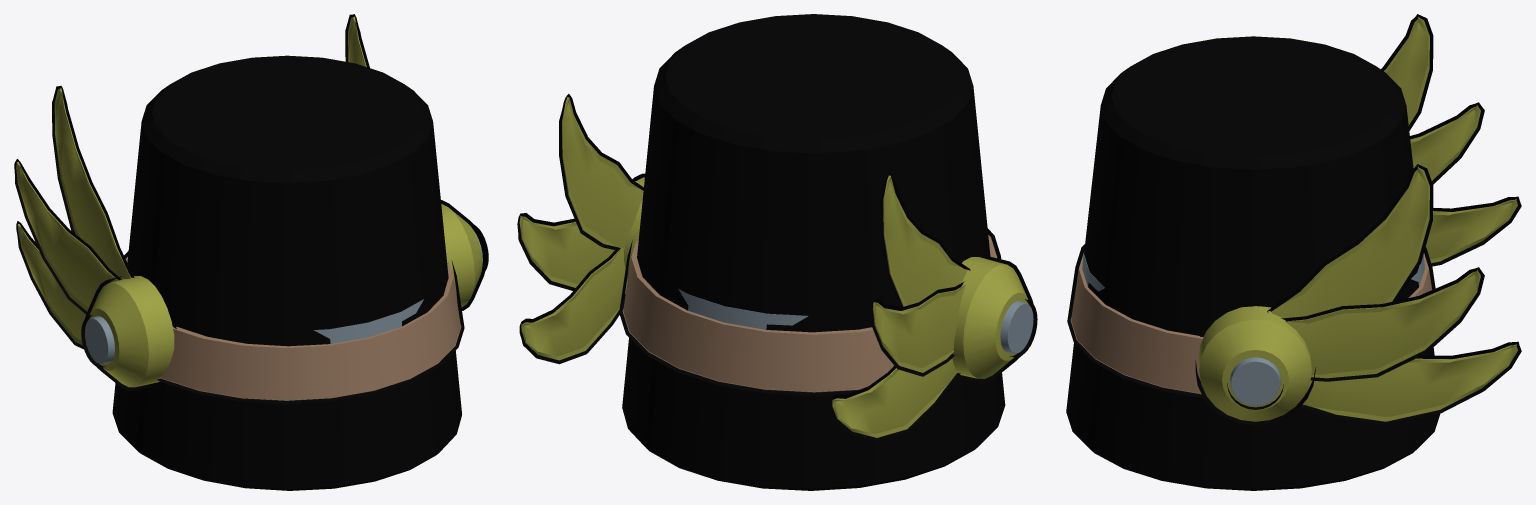
The model's file is Shapka5-6L.fbx.
The picture shows the model from 3 angles, left to right: view 1: azimuth 30°, elevation 25°; view 2: azimuth 150°, elevation 25°; view 3: azimuth 270°, elevation 25°; orthographic projection. The views are drawn at different scales.
Visible parts, largest first — view 1: Cube.001; view 2: Cube.001; view 3: Cube.001.
Boxes of the visible parts, x1=… form: Cube.001: x1=14, y1=14, x2=488, y2=490; Cube.001: x1=517, y1=14, x2=1037, y2=490; Cube.001: x1=1066, y1=14, x2=1521, y2=490.
Bounding box in the file's own units: 71.88 × 55.75 × 70.66.
